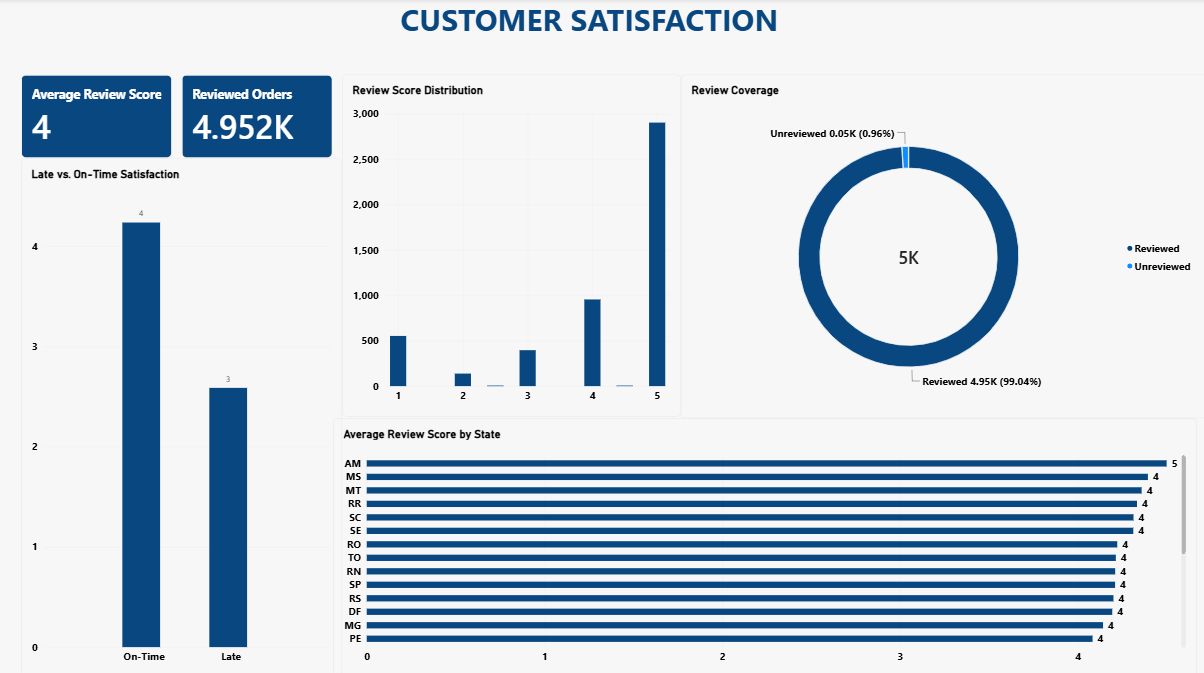

The dashboard page shown, as its layout file describes it:
{"tool":"powerbi","page":{"name":"CUSTOMER SATISFACTION","canvas":[1920,1080],"ordinal":3},"visuals":[{"type":"textbox","box":[637,0,646.6,76.3],"z":0},{"type":"cardVisual","fields":{"Data":["CountNonNull(vw_order_summary.review_count)"]},"box":[288.7,121.7,241,133.6],"z":1},{"type":"cardVisual","fields":{"Data":["vw_order_summary.Average Review Score"]},"box":[33.4,121.7,241,133.6],"z":2},{"type":"clusteredColumnChart","title":"Review Score Distribution","fields":{"Category":["vw_order_summary.average_review_score"],"Y":["CountNonNull(vw_order_summary.review_count)"]},"box":[544,121.7,539.2,544],"z":3},{"type":"clusteredColumnChart","title":"Late vs. On-Time Satisfaction","fields":{"Category":["vw_order_summary.Delivery Performance"],"Y":["vw_order_summary.Average Review Score"]},"box":[33.4,255.3,510.6,825.5],"z":4},{"type":"clusteredBarChart","title":"Average Review Score by State","fields":{"Category":["vw_order_summary.customer_state"],"Y":["vw_order_summary.Average Review Score"]},"box":[529.7,668.1,1374.3,412.8],"z":5},{"type":"donutChart","title":"Review Coverage","fields":{"Category":["vw_order_summary.Review Status"],"Y":["Count(vw_order_summary.order_id)"]},"box":[1083.2,121.7,837.5,546.4],"z":6}]}

Visuals, with their boxes in screenshot pixels (x1, y1, x2, y2), scaled from the page's 1920x1080 canvas onto the 1204x673 screenshot:
textbox: 399 0 805 48
cardVisual - CountNonNull(vw_order_summary.review_count): 181 76 332 159
cardVisual - vw_order_summary.Average Review Score: 21 76 172 159
"Review Score Distribution" clusteredColumnChart: 341 76 679 415
"Late vs. On-Time Satisfaction" clusteredColumnChart: 21 159 341 672
"Average Review Score by State" clusteredBarChart: 332 416 1194 672
"Review Coverage" donutChart: 679 76 1203 416
